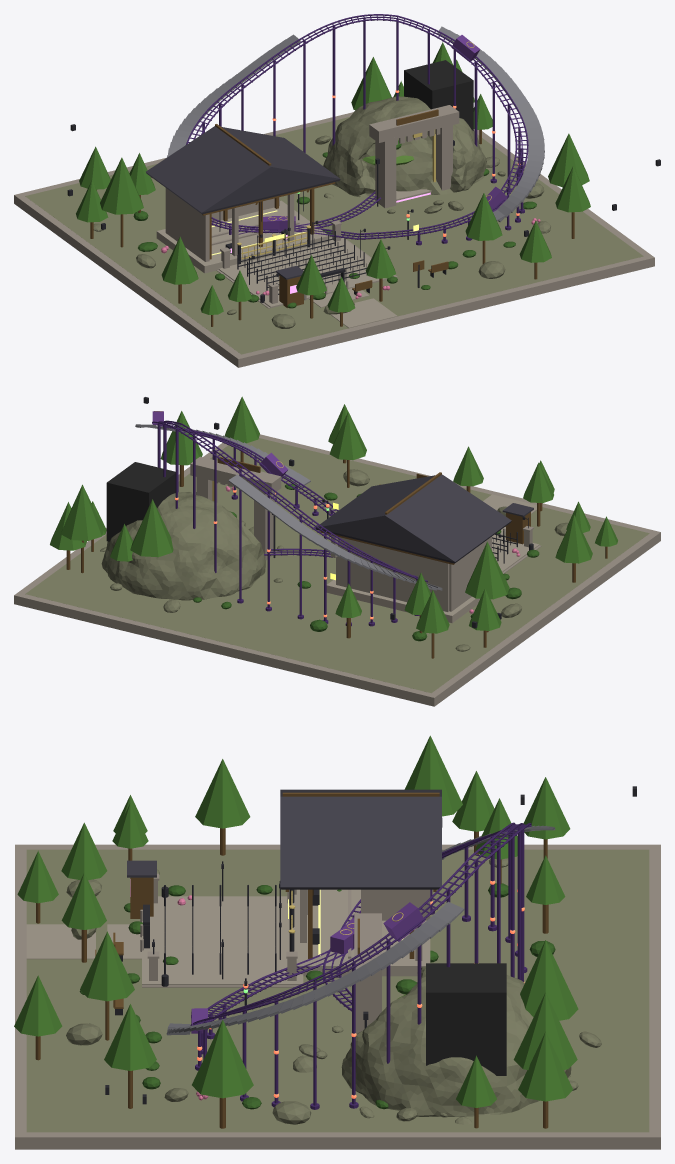
File: theme-park-ride-system.glb
3 renders of one model, top to bottom at view 1: azimuth 30°, elevation 25°; view 2: azimuth 150°, elevation 25°; view 3: azimuth 270°, elevation 25°, orthographic. The views are drawn at different scales.
Parts seen in each view (by area): view 1: ground_surface, ground_base, station_roof, mountain_rock, emergency_walkway, queue_platform, track_supports, track_rails, station_platform, cave_interior, station_wall_left, cave_arch_top (+19 smaller); view 2: ground_surface, ground_base, mountain_rock, station_roof, station_wall_back, cave_interior, track_supports, emergency_walkway, track_rails, tree_canopy_10, tree_canopy_2, tree_canopy_4 (+20 smaller); view 3: ground_surface, ground_base, station_roof, mountain_rock, queue_platform, cave_interior, track_supports, emergency_walkway, station_platform, track_rails, extra_tree_canopy_2, tree_canopy_10 (+28 smaller).
Part boxes in pixels (x1=…): ground_surface: x1=25, y1=117, x2=643, y2=354; ground_base: x1=14, y1=112, x2=654, y2=367; station_roof: x1=146, y1=126, x2=340, y2=214; mountain_rock: x1=323, y1=96, x2=486, y2=197; emergency_walkway: x1=167, y1=26, x2=544, y2=222; queue_platform: x1=218, y1=237, x2=395, y2=307; track_supports: x1=202, y1=18, x2=524, y2=245; track_rails: x1=186, y1=14, x2=528, y2=239; station_platform: x1=156, y1=200, x2=329, y2=273; cave_interior: x1=404, y1=60, x2=473, y2=130; station_wall_left: x1=165, y1=188, x2=209, y2=261; cave_arch_top: x1=369, y1=105, x2=459, y2=142; ground_surface: x1=25, y1=438, x2=649, y2=693; ground_base: x1=14, y1=434, x2=660, y2=706; mountain_rock: x1=101, y1=492, x2=265, y2=600; station_roof: x1=315, y1=474, x2=511, y2=563; station_wall_back: x1=336, y1=537, x2=449, y2=611; cave_interior: x1=106, y1=462, x2=175, y2=541; track_supports: x1=157, y1=422, x2=419, y2=626; emergency_walkway: x1=135, y1=424, x2=442, y2=590; track_rails: x1=152, y1=420, x2=427, y2=581; tree_canopy_10: x1=130, y1=499, x2=173, y2=557; tree_canopy_2: x1=465, y1=541, x2=509, y2=599; tree_canopy_4: x1=61, y1=484, x2=103, y2=540; ground_surface: x1=26, y1=849, x2=649, y2=1132; ground_base: x1=15, y1=844, x2=660, y2=1149; station_roof: x1=280, y1=789, x2=441, y2=889; mountain_rock: x1=341, y1=966, x2=571, y2=1116; queue_platform: x1=142, y1=896, x2=303, y2=985; cave_interior: x1=426, y1=963, x2=506, y2=1075; track_supports: x1=195, y1=823, x2=527, y2=1109; emergency_walkway: x1=166, y1=825, x2=555, y2=1035; station_platform: x1=292, y1=889, x2=430, y2=976; track_rails: x1=190, y1=822, x2=531, y2=1025; extra_tree_canopy_2: x1=192, y1=1020, x2=253, y2=1098; tree_canopy_10: x1=520, y1=940, x2=578, y2=1020.
Size of the model in its own units: 33.82 by 11.42 by 28.05.
